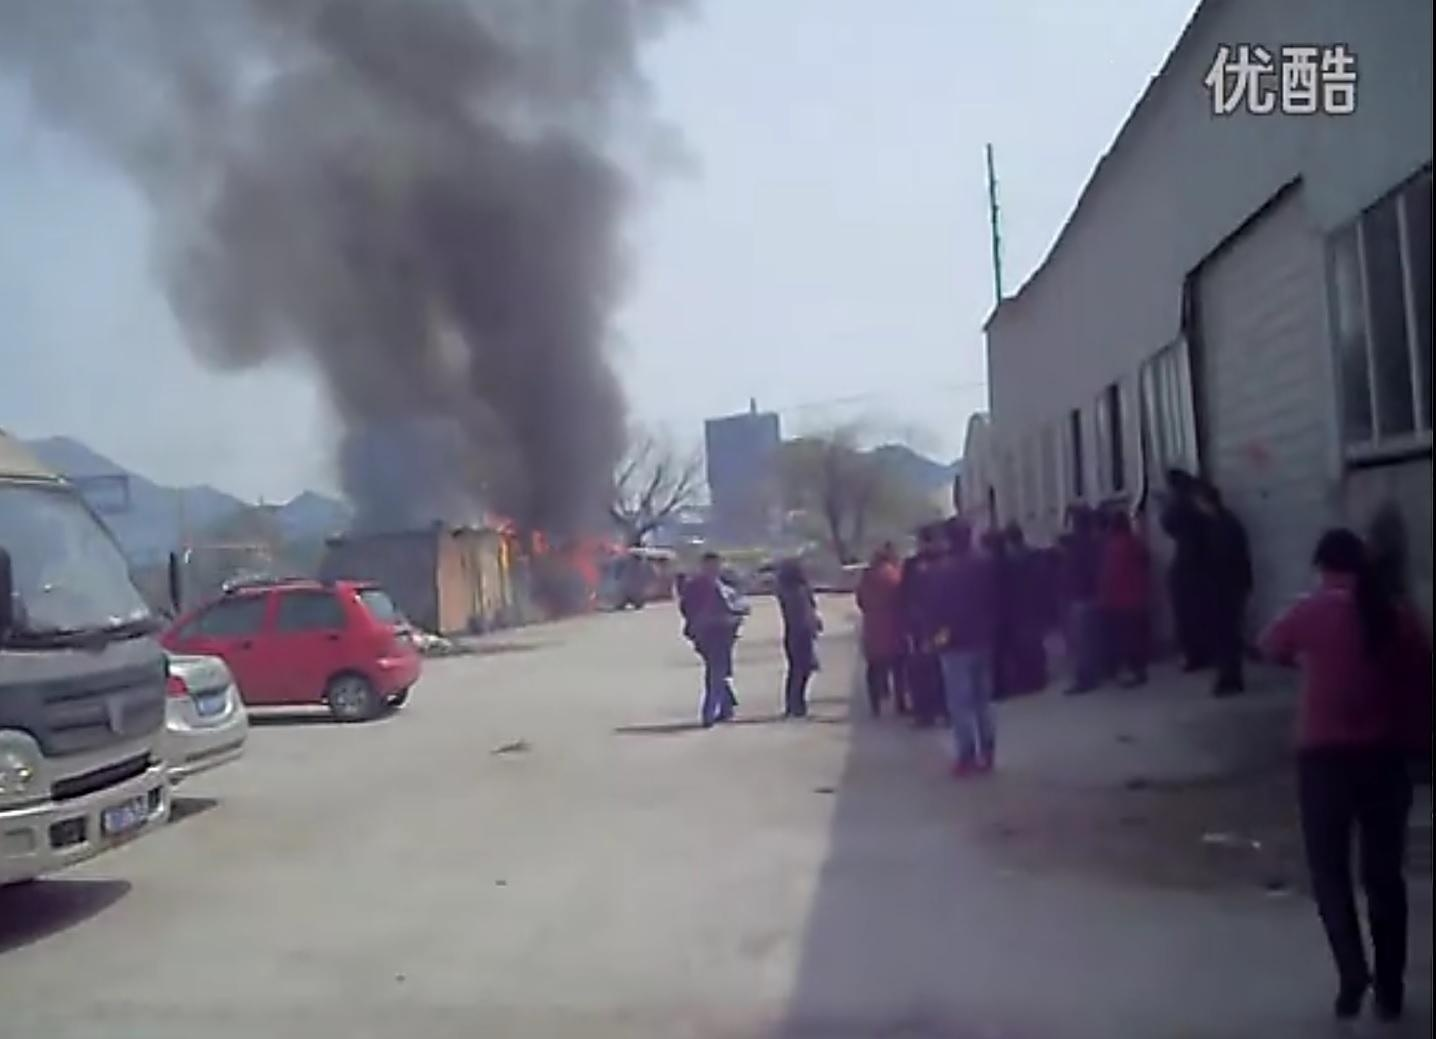fire: (506, 519, 622, 605)
